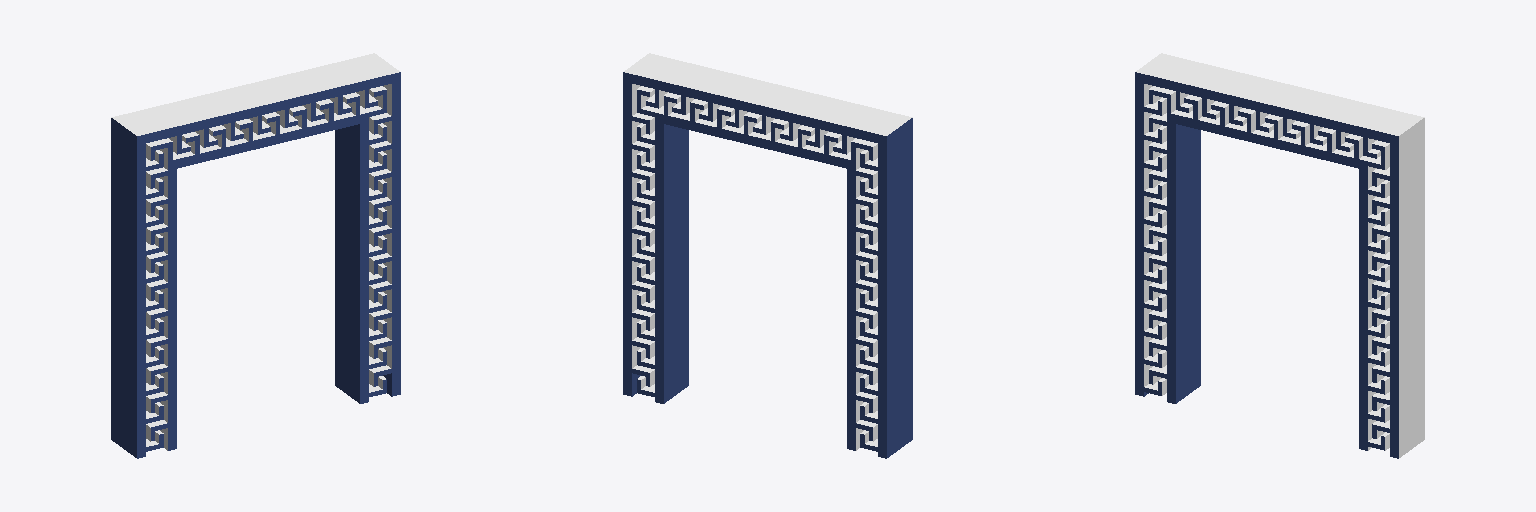
File: greekarch.obj
3 renders of one model, left to right at view 1: azimuth 30°, elevation 25°; view 2: azimuth 150°, elevation 25°; view 3: azimuth 330°, elevation 25°, orthographic.
Parts seen in each view (by area): view 1: SketchUp; view 2: SketchUp; view 3: SketchUp.
Boxes of the visible parts, <box> form: SketchUp: <box>111,53,400,458</box>; SketchUp: <box>623,53,912,458</box>; SketchUp: <box>1135,53,1424,458</box>.
Bounding box in the file's own units: 5.9 × 6.9 × 1.